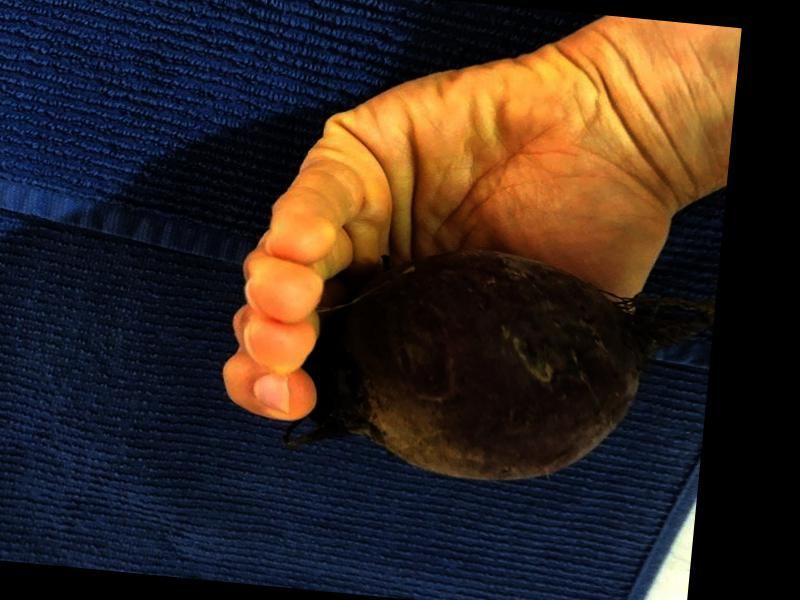Beet: (275, 231, 714, 498)
